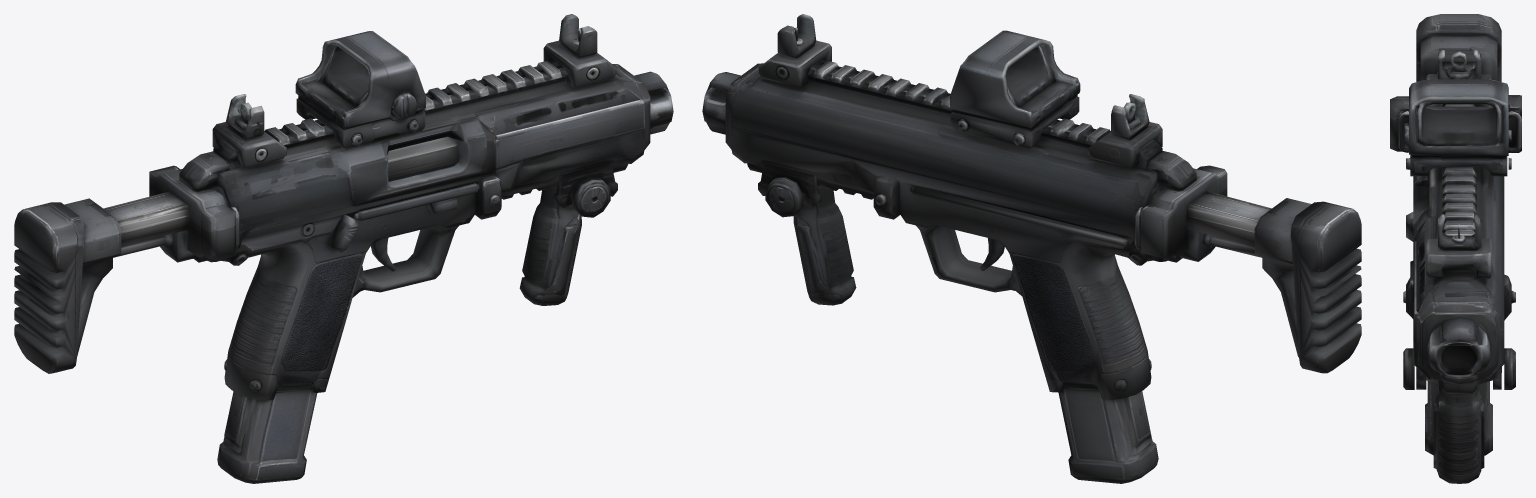
File: pdw9_wasp.glb
3 renders of one model, left to right at view 1: azimuth 30°, elevation 25°; view 2: azimuth 150°, elevation 25°; view 3: azimuth 270°, elevation 25°, orthographic.
Parts seen in each view (by area): view 1: pdw9_wasp; view 2: pdw9_wasp; view 3: pdw9_wasp.
Part boxes in pixels (x1=…): pdw9_wasp: x1=14, y1=14, x2=673, y2=483; pdw9_wasp: x1=702, y1=14, x2=1361, y2=483; pdw9_wasp: x1=1390, y1=14, x2=1521, y2=483.
Size of the model in its own units: 0.6 by 0.3675 by 0.1068.
Materials: 1 (1 with a texture image).
